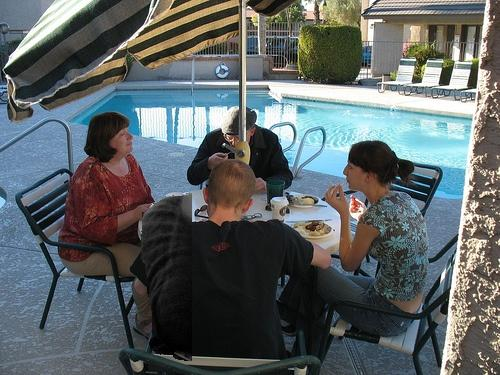tampered: (141, 193, 192, 361)
